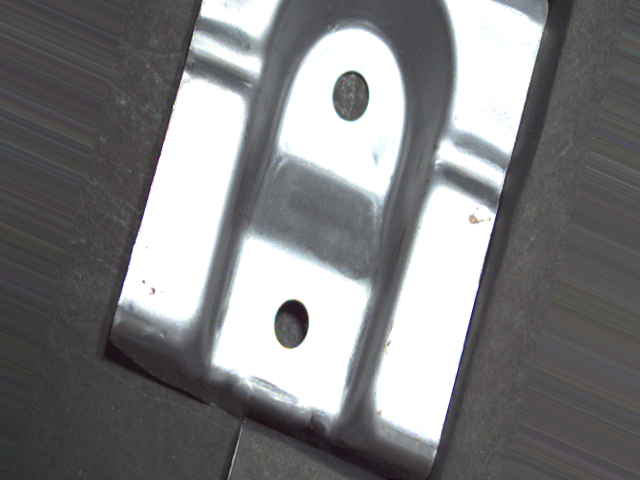defect: (327, 67, 372, 127)
